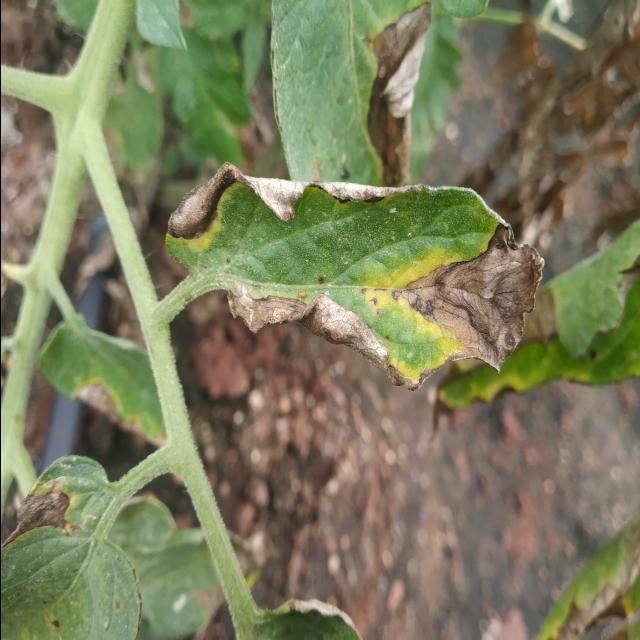Tomato mosaic virus leaf: (161, 150, 549, 402)
